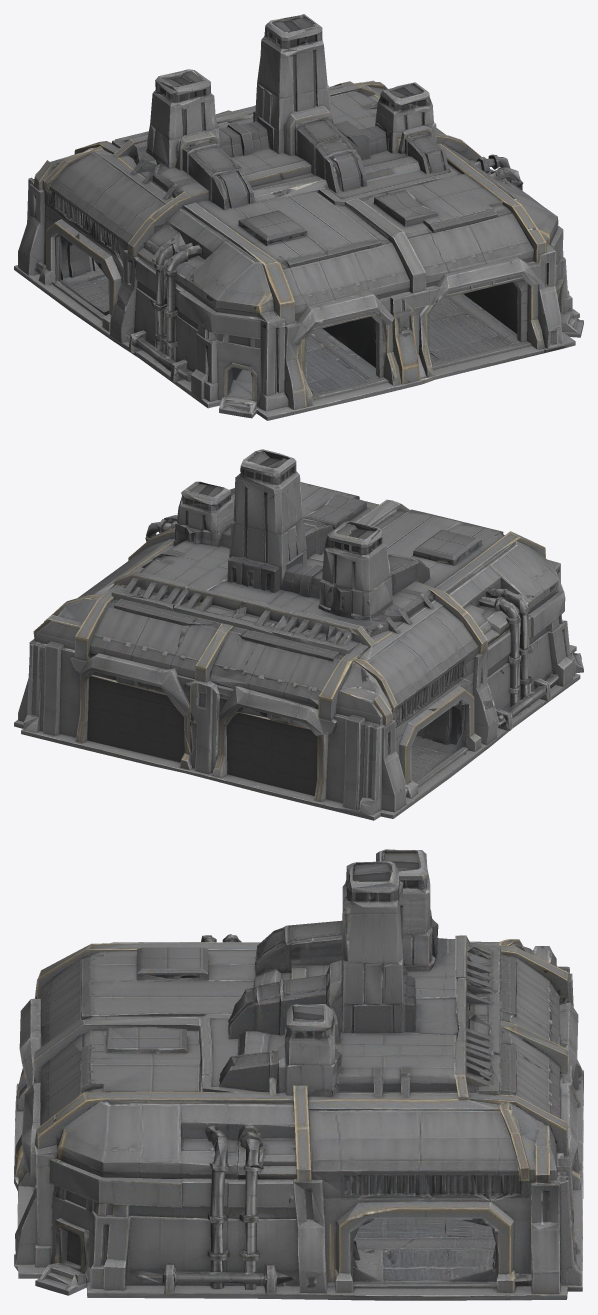
File: imperial_alloy_foundry_lod1.glb
3 renders of one model, top to bottom at view 1: azimuth 30°, elevation 25°; view 2: azimuth 150°, elevation 25°; view 3: azimuth 270°, elevation 25°, orthographic. The views are drawn at different scales.
Visible parts, largest first — view 1: mesh_node; view 2: mesh_node; view 3: mesh_node.
Boxes of the visible parts, x1,y1,x2,y2 form: mesh_node: (14,14,583,420); mesh_node: (14,449,583,820); mesh_node: (14,849,583,1300).
Bounding box in the file's own units: 32.59 × 20.78 × 33.5.
1 material, 1 textured.
